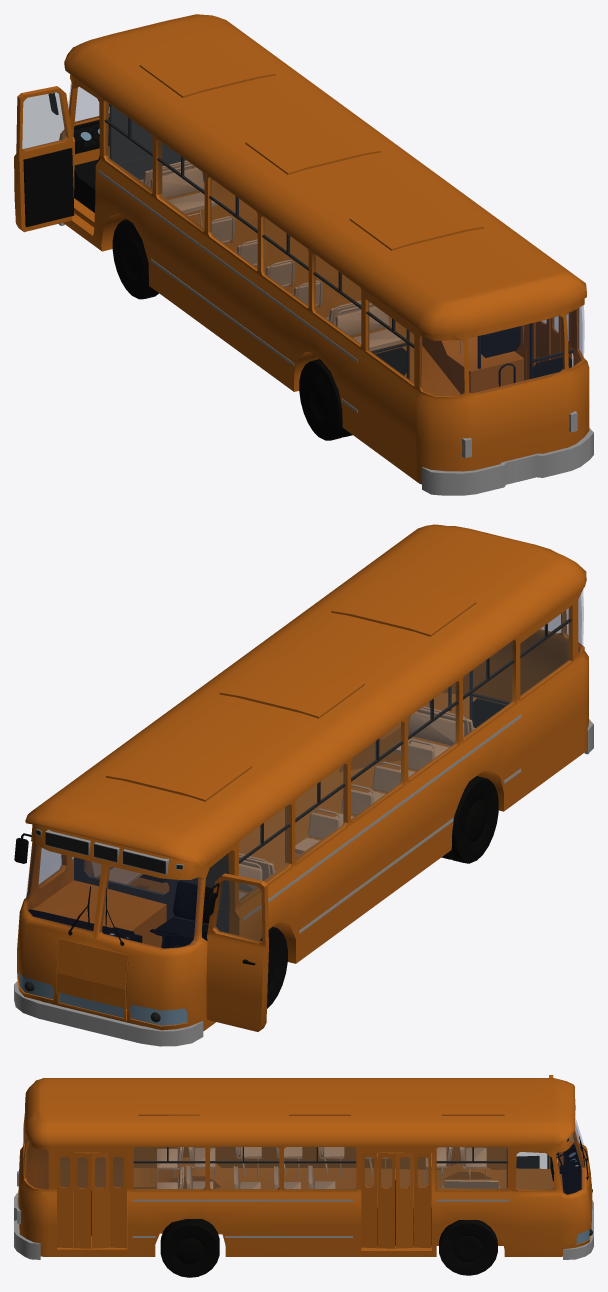
The model's file is LIAZ_677.FBX.
3 renders of one model, top to bottom at view 1: azimuth 30°, elevation 25°; view 2: azimuth 150°, elevation 25°; view 3: azimuth 270°, elevation 25°, orthographic. The views are drawn at different scales.
Visible parts, largest first — view 1: Object512, LIAZ_677_door_01, LIAZ_677_Backwheel_01, LIAZ_677_frontwheel_01, LIAZ_door005; view 2: Object512, LIAZ_677_door_01, LIAZ_677_Backwheel_01, LIAZ_677_frontwheel_01; view 3: Object512, LIAZ_677_Backwheel_02, LIAZ_677_frontwheel_02, LIAZ_door006, LIAZ_door002, LIAZ_door005, LIAZ_door004, LIAZ_door001, LIAZ_door, LIAZ_door003, LIAZ_door007.
Boxes of the visible parts, left/top/right/bottom form: Object512: left=58, top=14, right=593, bottom=495; LIAZ_677_door_01: left=14, top=86, right=74, bottom=232; LIAZ_677_Backwheel_01: left=299, top=359, right=352, bottom=440; LIAZ_677_frontwheel_01: left=112, top=219, right=158, bottom=299; LIAZ_door005: left=535, top=318, right=550, bottom=363; Object512: left=14, top=524, right=593, bottom=1046; LIAZ_677_door_01: left=205, top=873, right=268, bottom=1031; LIAZ_677_Backwheel_01: left=441, top=776, right=498, bottom=863; LIAZ_677_frontwheel_01: left=260, top=927, right=287, bottom=1008; Object512: left=14, top=1078, right=593, bottom=1259; LIAZ_677_Backwheel_02: left=160, top=1219, right=219, bottom=1277; LIAZ_677_frontwheel_02: left=439, top=1220, right=497, bottom=1275; LIAZ_door006: left=73, top=1152, right=90, bottom=1248; LIAZ_door002: left=378, top=1152, right=395, bottom=1248; LIAZ_door005: left=91, top=1152, right=108, bottom=1248; LIAZ_door004: left=109, top=1152, right=126, bottom=1248; LIAZ_door001: left=396, top=1152, right=413, bottom=1248; LIAZ_door: left=414, top=1153, right=431, bottom=1248; LIAZ_door003: left=361, top=1153, right=377, bottom=1248; LIAZ_door007: left=57, top=1152, right=72, bottom=1248.
Size of the model in its own units: 923 by 784 by 2730.
